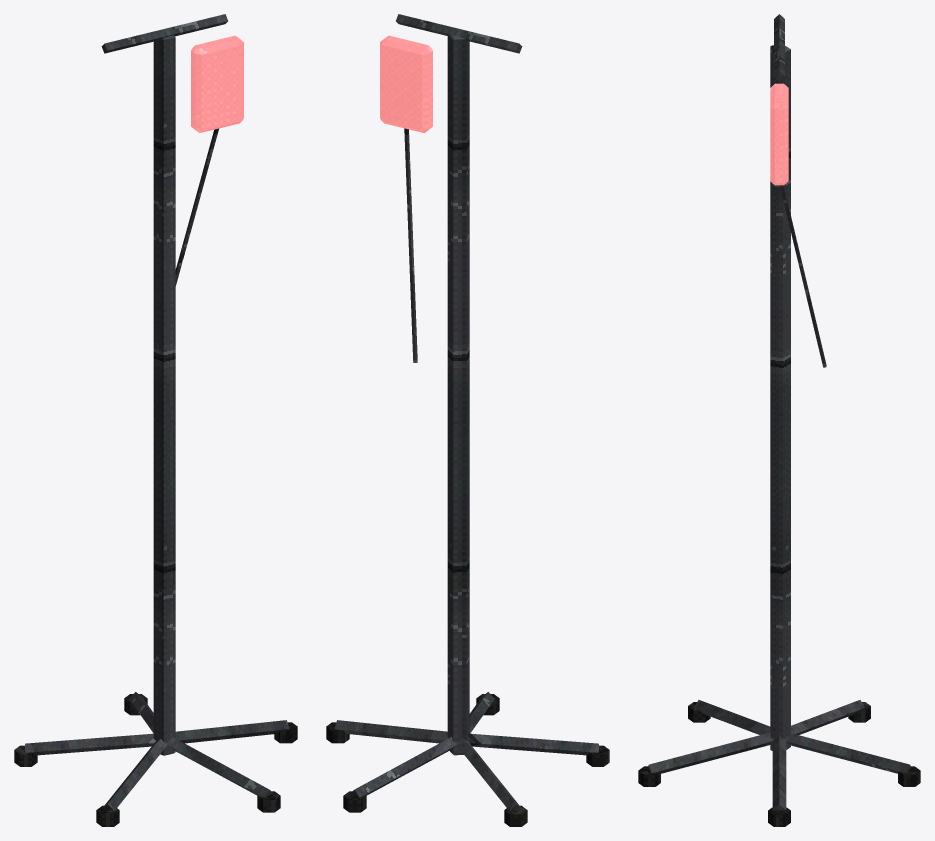
The model's file is prop_iv_stand.glb.
3 renders of one model, left to right at view 1: azimuth 30°, elevation 25°; view 2: azimuth 150°, elevation 25°; view 3: azimuth 270°, elevation 25°, orthographic. The views are drawn at different scales.
Parts seen in each view (by area): view 1: prop_iv_stand_mesh; view 2: prop_iv_stand_mesh; view 3: prop_iv_stand_mesh.
Part boxes in pixels (<box>): prop_iv_stand_mesh: <box>14,14,297,826</box>; prop_iv_stand_mesh: <box>326,14,609,826</box>; prop_iv_stand_mesh: <box>638,14,920,826</box>.
Size of the model in its own units: 0.586 by 1.75 by 0.6206.
3 materials, 3 textured.
